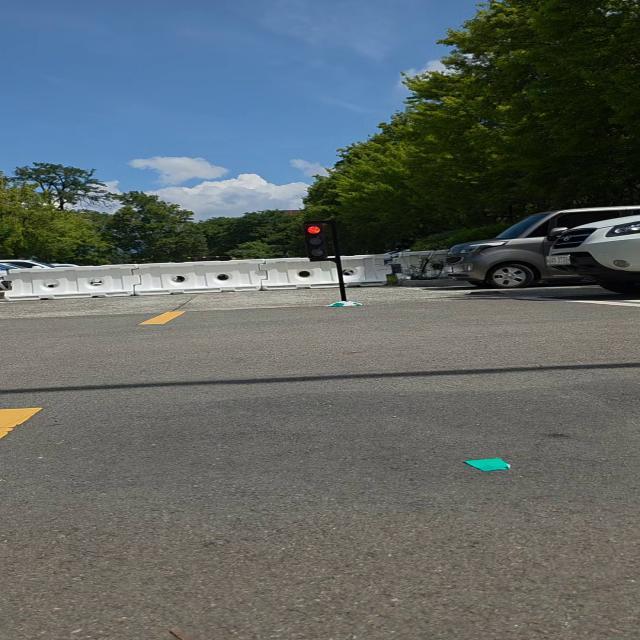red: (290, 218, 338, 262)
